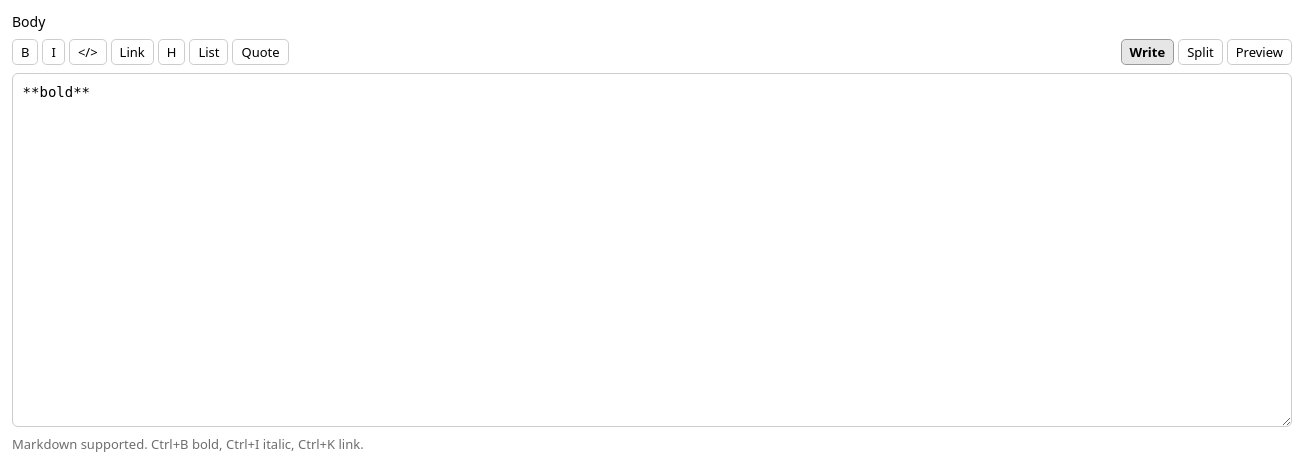
Test: MarkdownEditor › shows both panes in split mode
The width and height of the screenshot is (1304, 469).
Click the button "Split": (1200, 52) [1178,39,1223,65]
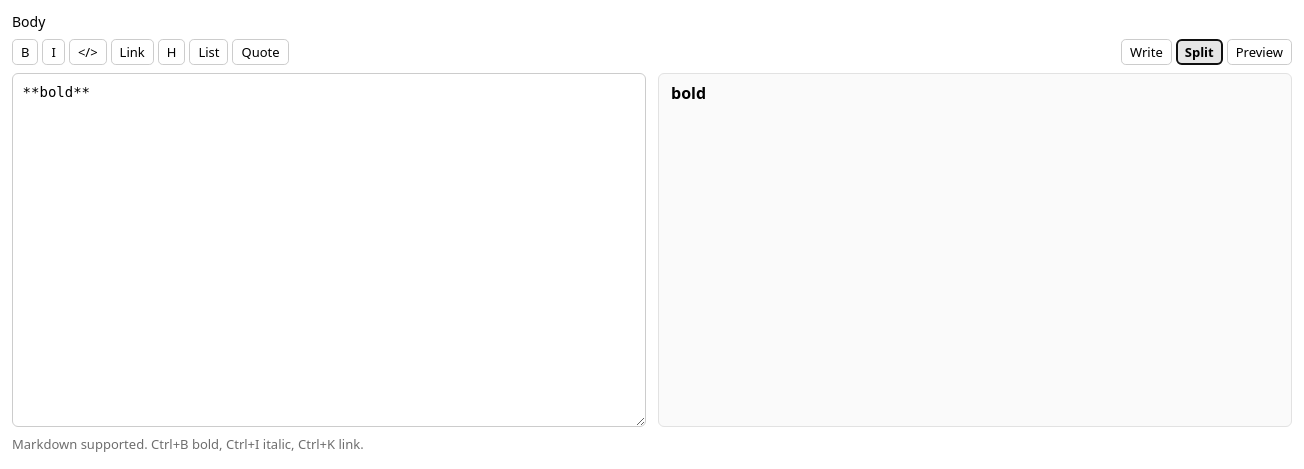
expect the text box labelled "Body" is shown: met, box [12,73,646,427]
expect the text "bold" is shown: met, box [671,82,706,104]
